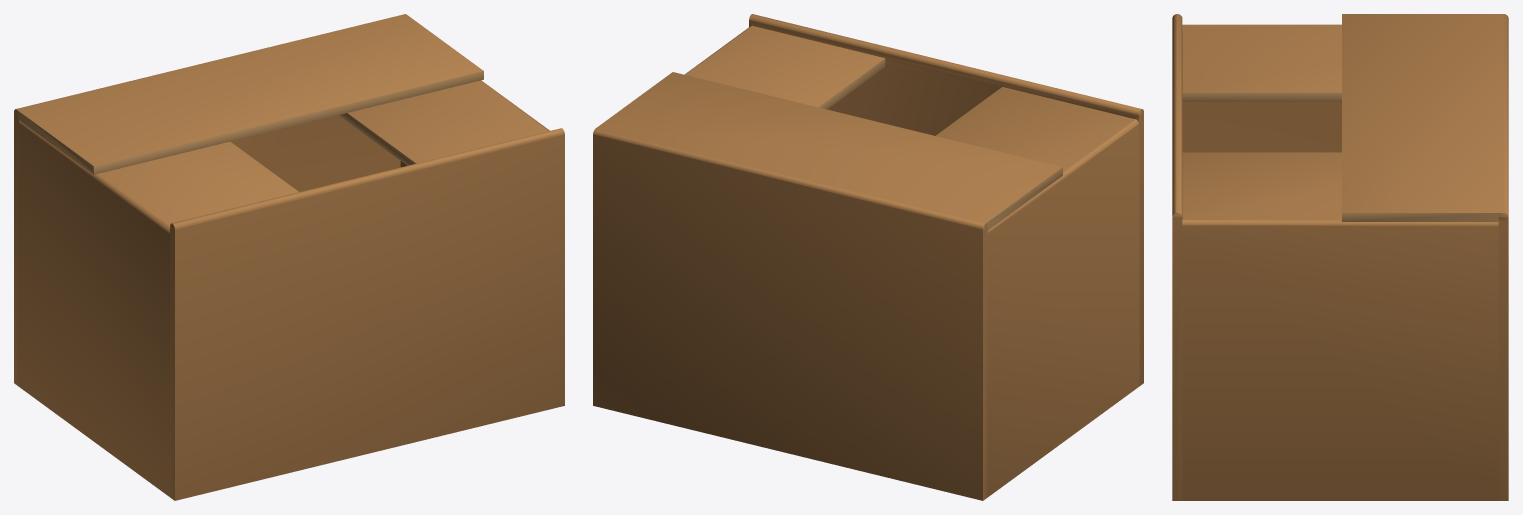
The model's file is koli.glb.
3 views of the same model, side by side, from view 1: azimuth 30°, elevation 25°; view 2: azimuth 150°, elevation 25°; view 3: azimuth 270°, elevation 25° (orthographic). The views are drawn at different scales.
Parts seen in each view (by area): view 1: body, flap_back, flap_right, flap_left; view 2: body, flap_back, flap_right, flap_left; view 3: body, flap_back, flap_left, flap_right.
Part boxes in pixels (x1,y1,x2,y2): body: (14,14,564,500); flap_back: (14,14,483,174); flap_right: (338,80,548,165); flap_left: (19,124,298,233); body: (593,14,1143,500); flap_back: (593,72,1062,232); flap_right: (686,26,885,109); flap_left: (936,87,1138,233); body: (1172,14,1508,500); flap_back: (1342,14,1508,221); flap_left: (1182,25,1341,101); flap_right: (1182,152,1497,226).
Bounding box in the file's own units: 4.2 × 2.84 × 3.
